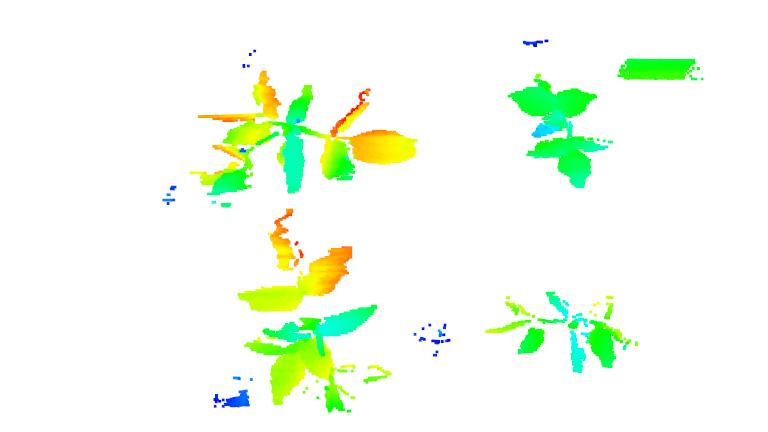mungbean: (240, 212, 396, 411), (192, 71, 422, 199), (484, 288, 643, 374), (508, 70, 618, 192)
